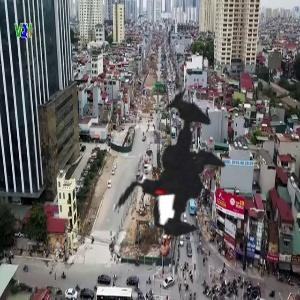drone: (57, 54, 280, 277)
